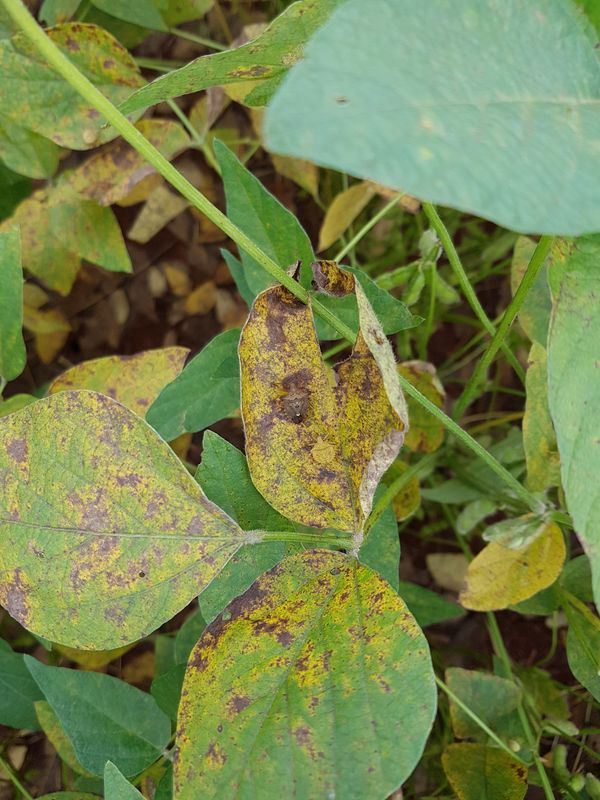Euschistus_heros_adulto: (269, 375, 324, 431)
